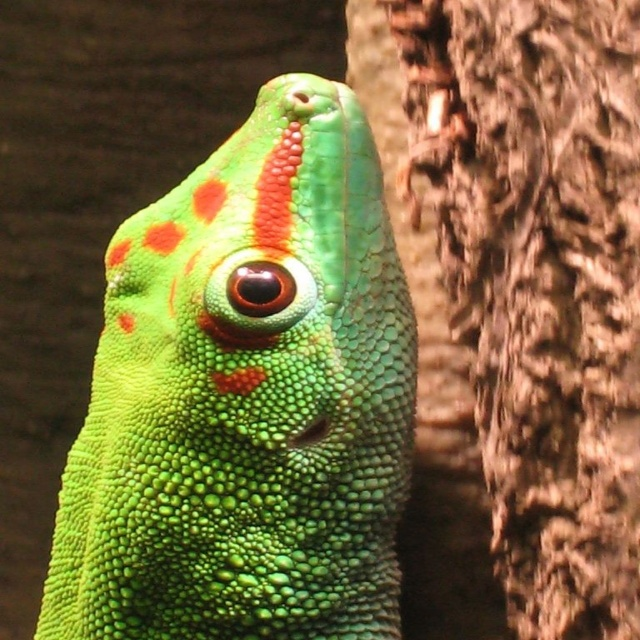Lizard: (6, 65, 466, 640)
